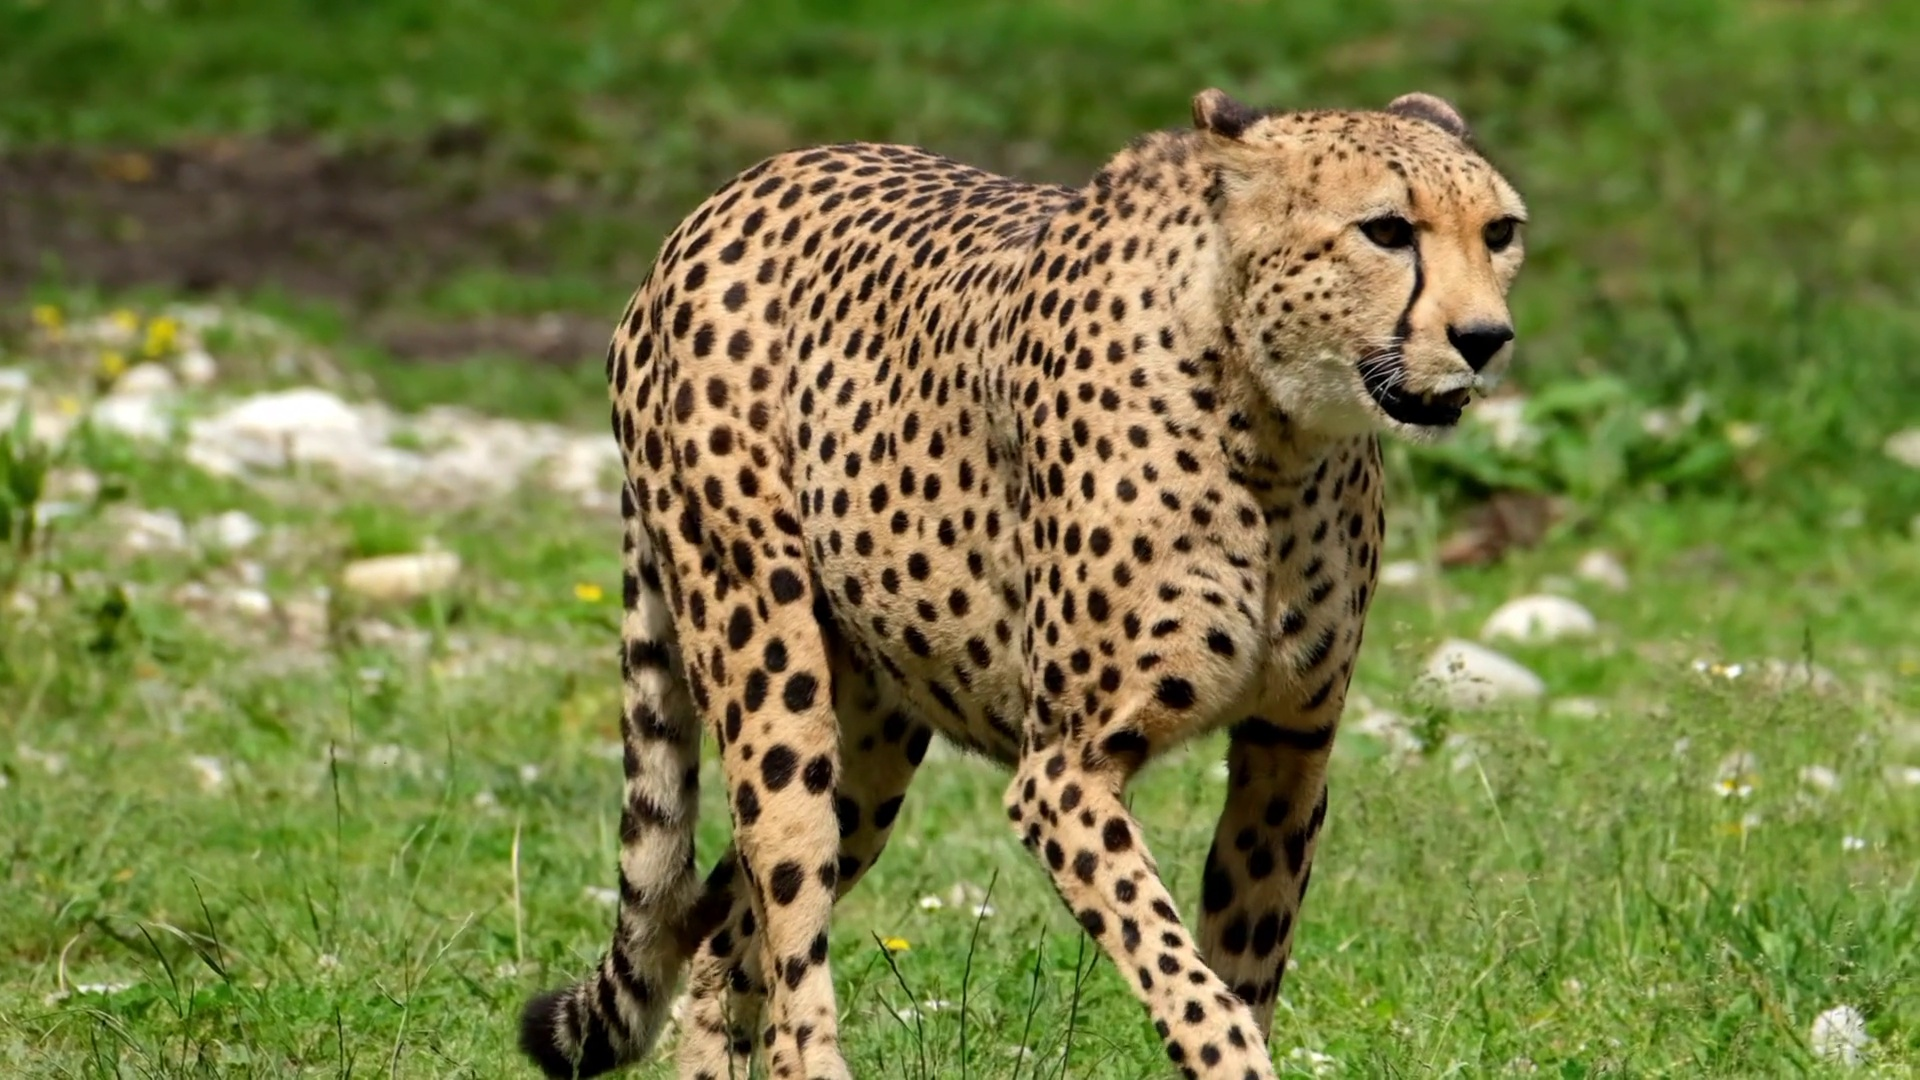Cheetah: (510, 83, 1538, 1080)
